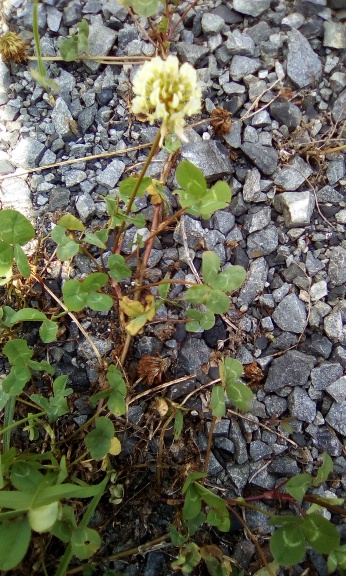4leaf: (184, 250, 248, 315)
